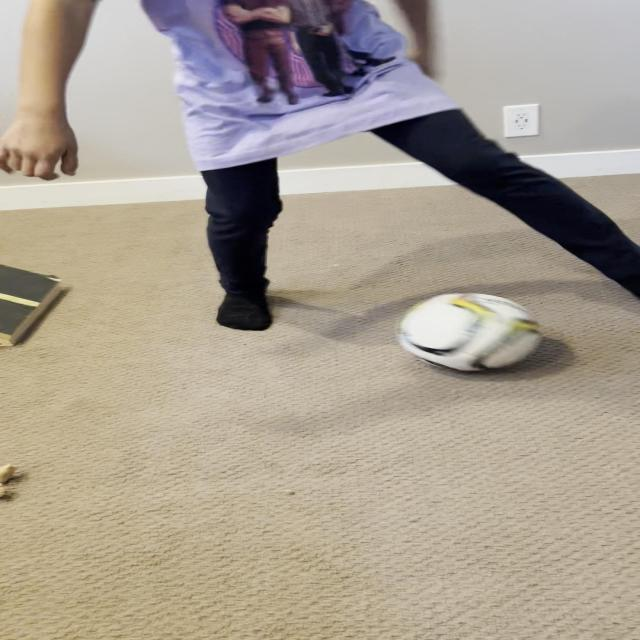Soccer Ball: (396, 292, 544, 373)
